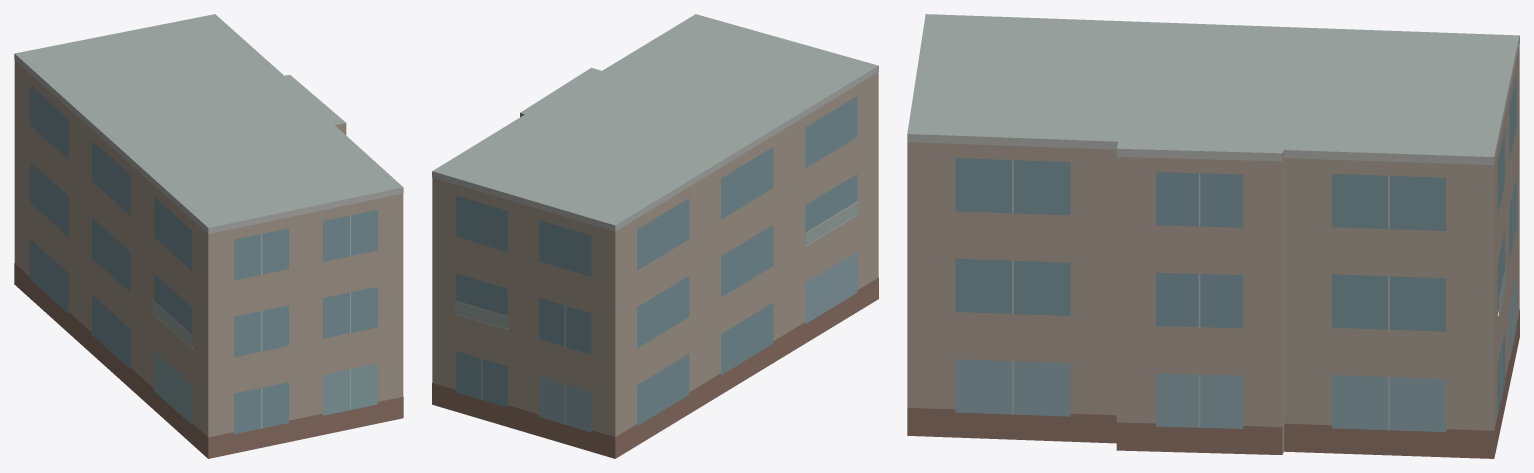
Rendered from survey-upis-32957876.glb.
3 renders of one model, left to right at view 1: azimuth 30°, elevation 25°; view 2: azimuth 150°, elevation 25°; view 3: azimuth 270°, elevation 25°, orthographic. The views are drawn at different scales.
Parts seen in each view (by area): view 1: survey-upis-32957876.tmp; view 2: survey-upis-32957876.tmp; view 3: survey-upis-32957876.tmp.
Part boxes in pixels (x1,y1,x2,y2): survey-upis-32957876.tmp: (14, 14, 403, 458); survey-upis-32957876.tmp: (432, 14, 878, 458); survey-upis-32957876.tmp: (907, 14, 1519, 458).
Size of the model in its own units: 9.32 by 9.15 by 16.84.
